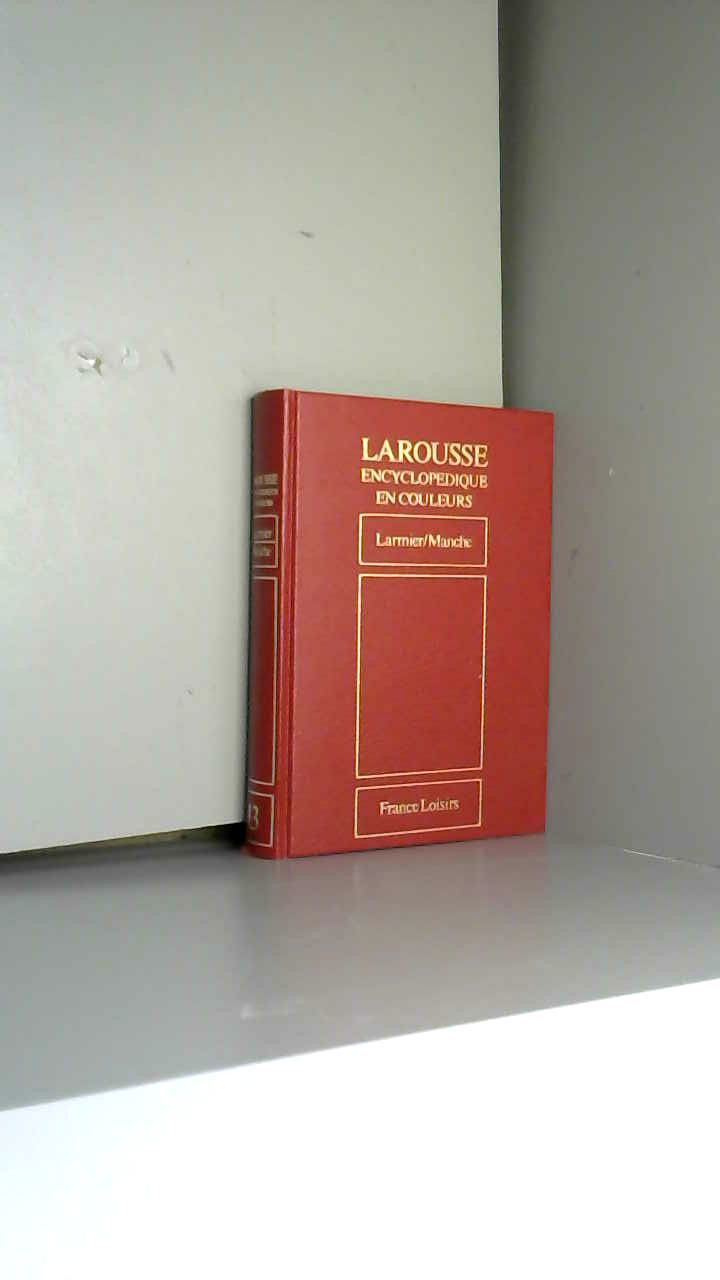book: (215, 354, 586, 895)
